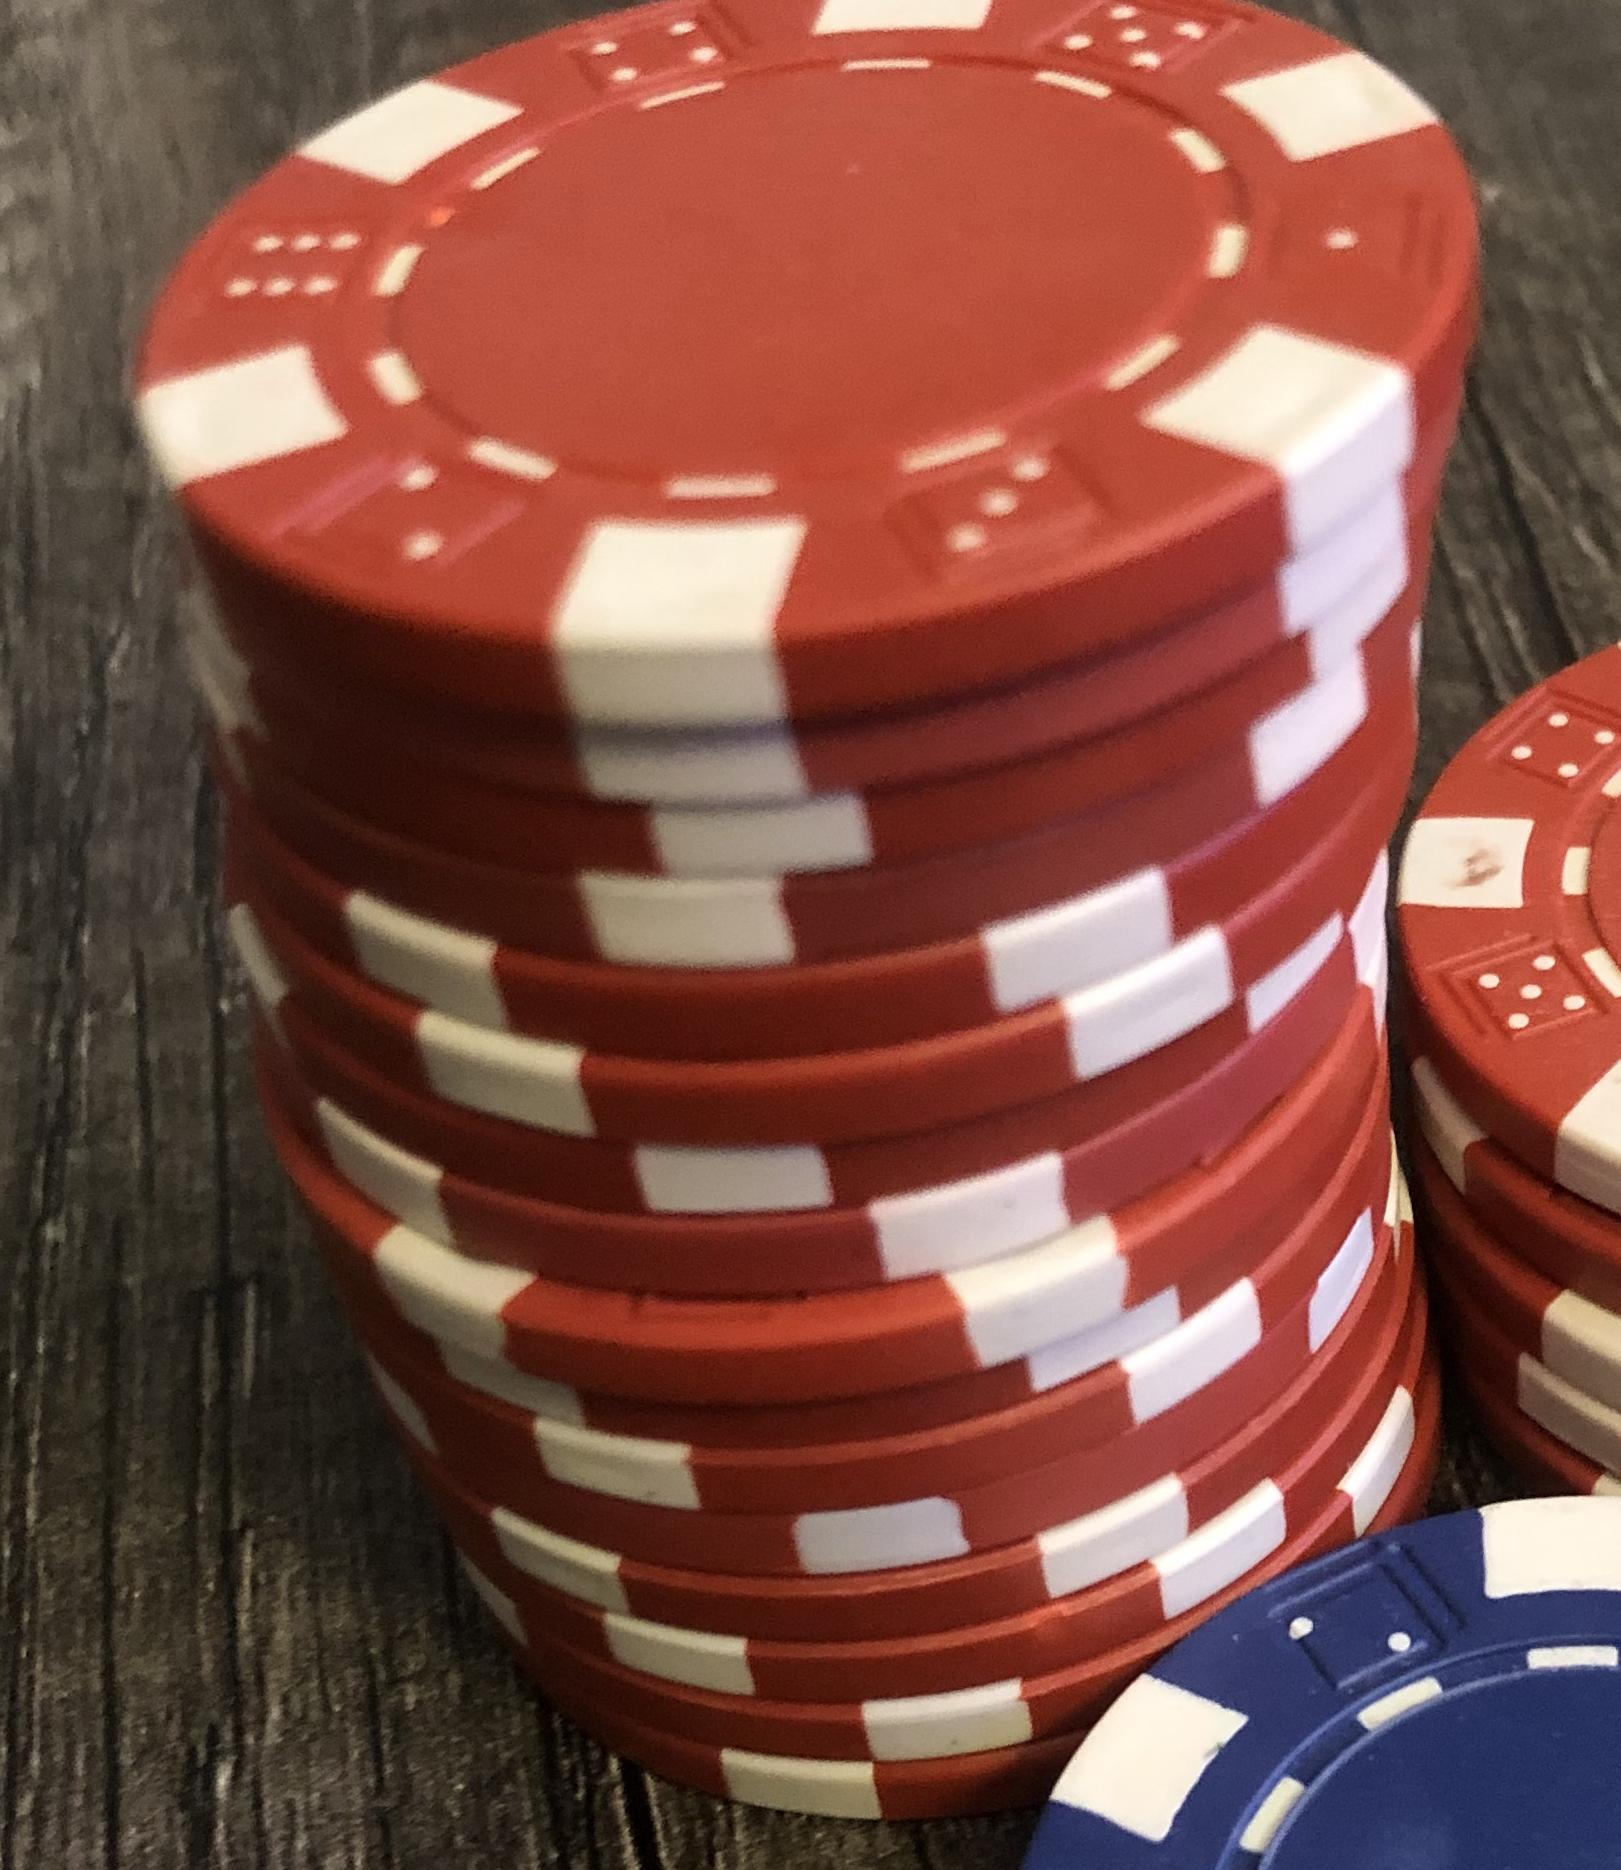Chip: (2, 2, 1621, 1870)
